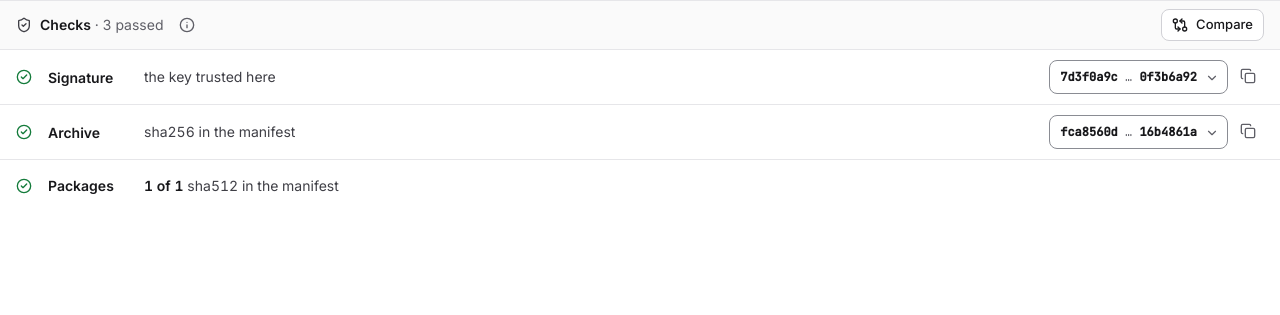
Test: Checks › explains the checks one press away with no link
This screenshot has width=1280, height=315.
Click the button named "What these checks mean": (188, 25) [172,9,204,41]
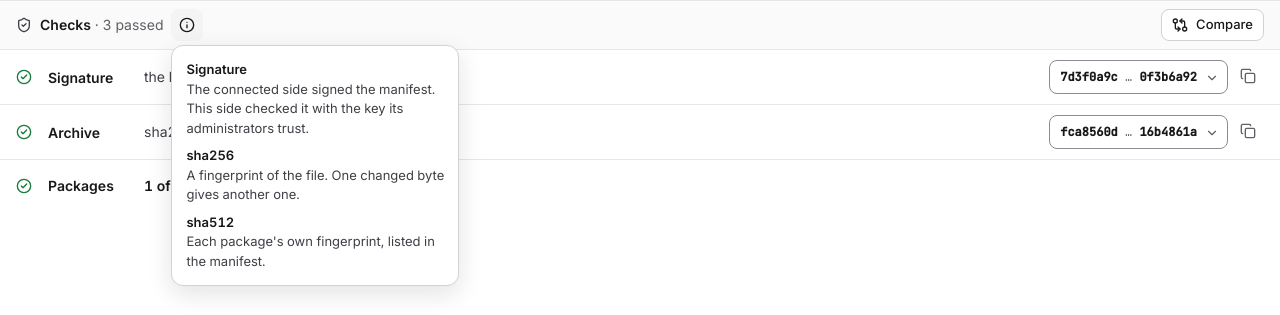
Expected: the button named "What these checks mean" is expanded
Press Escape in the button named "What these checks mean", box [172,9,204,41]
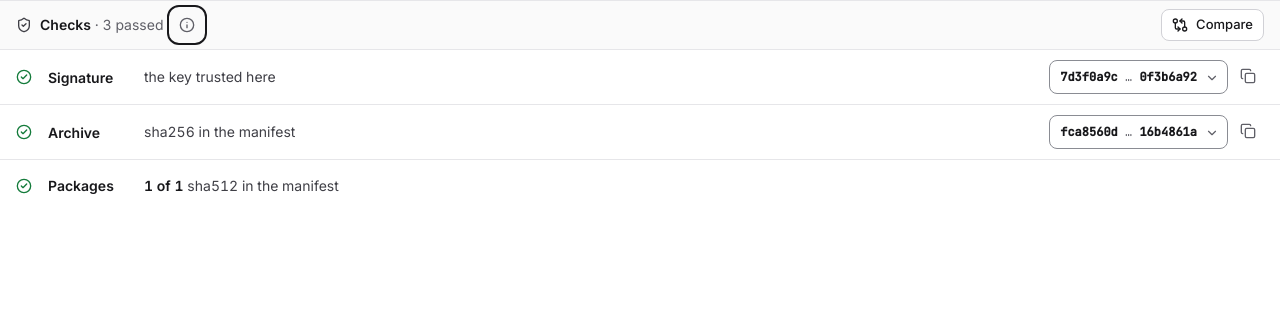
Expected: the button named "What these checks mean" is collapsed, [172,9,204,41]
